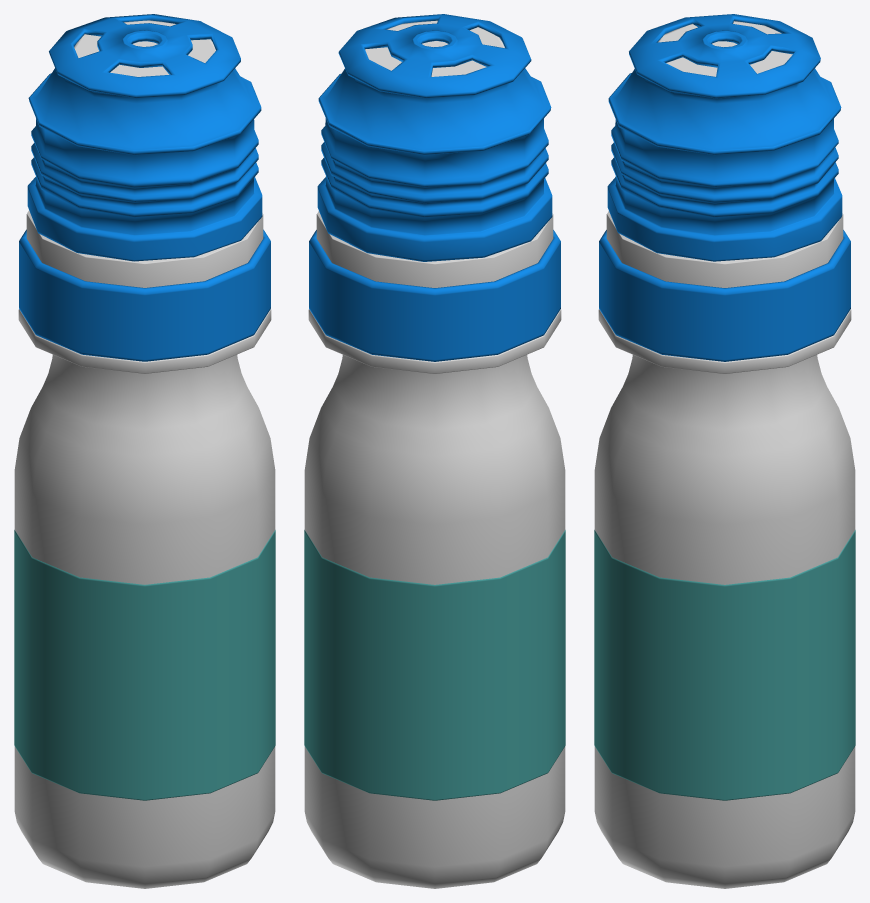
The model's file is EyeDropsBottle.glb.
The picture shows the model from 3 angles, left to right: view 1: azimuth 30°, elevation 25°; view 2: azimuth 150°, elevation 25°; view 3: azimuth 270°, elevation 25°; orthographic projection.
Visible parts, largest first — view 1: EyeDropsBottle, Label, BlueCap, BlueRing, Cover; view 2: EyeDropsBottle, Label, BlueCap, BlueRing, Cover; view 3: EyeDropsBottle, Label, BlueCap, BlueRing, Cover.
Part boxes in pixels (bbox=[...]): EyeDropsBottle: bbox=[14, 210, 275, 888]; Label: bbox=[14, 530, 275, 800]; BlueCap: bbox=[27, 14, 262, 261]; BlueRing: bbox=[19, 229, 270, 361]; Cover: bbox=[74, 20, 215, 76]; EyeDropsBottle: bbox=[304, 211, 565, 888]; Label: bbox=[304, 530, 565, 800]; BlueCap: bbox=[317, 14, 552, 261]; BlueRing: bbox=[309, 230, 560, 361]; Cover: bbox=[365, 20, 504, 76]; EyeDropsBottle: bbox=[594, 211, 855, 888]; Label: bbox=[594, 530, 855, 800]; BlueCap: bbox=[607, 14, 842, 261]; BlueRing: bbox=[599, 230, 850, 361]; Cover: bbox=[658, 21, 792, 76].
Size of the model in its own units: 0.017 by 0.0575 by 0.017.
